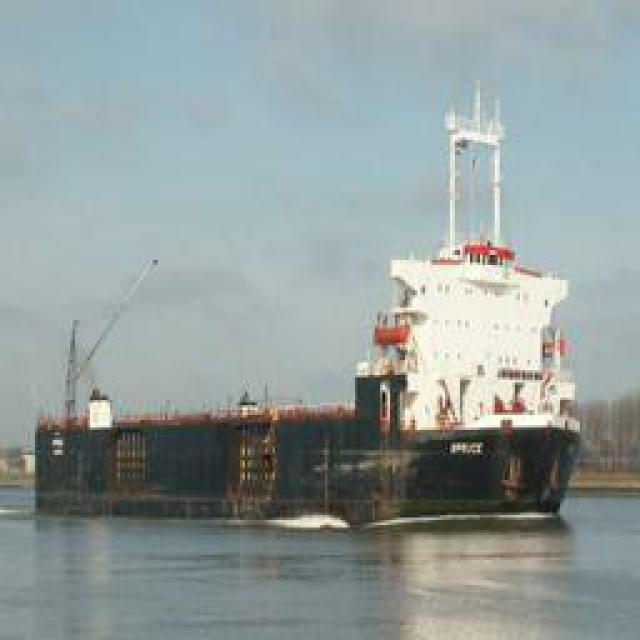Ship: (20, 112, 587, 525)
